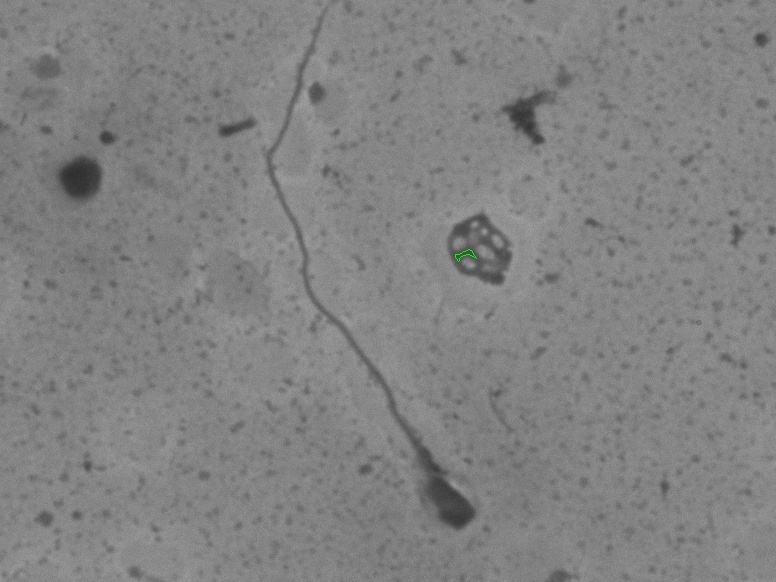Abnormal: (254, 11, 491, 549)
